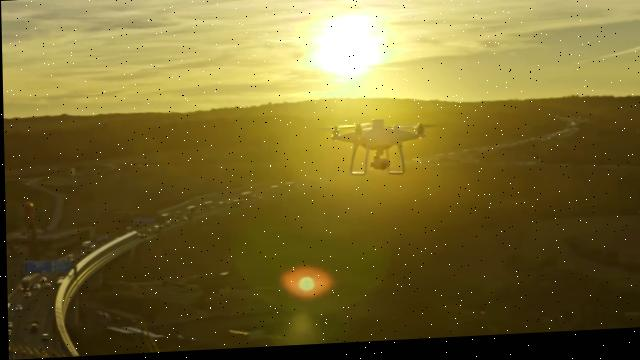drone: (315, 118, 443, 183)
